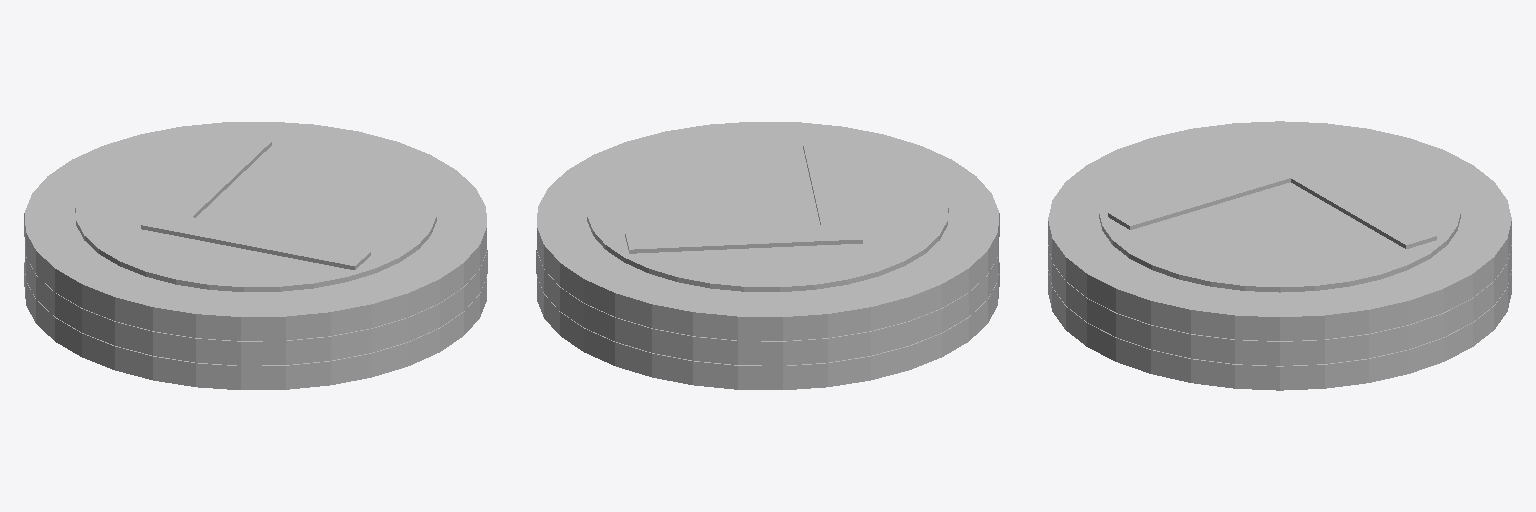
The model's file is sala.obj.
The picture shows the model from 3 angles: view 1: azimuth 30°, elevation 25°; view 2: azimuth 150°, elevation 25°; view 3: azimuth 270°, elevation 25°; orthographic projection.
Parts seen in each view (by area): view 1: Circle.001_Circle.003; view 2: Circle.001_Circle.003; view 3: Circle.001_Circle.003.
Part boxes in pixels (x1,y1,x2,y2): Circle.001_Circle.003: (24, 122, 487, 389); Circle.001_Circle.003: (536, 122, 999, 389); Circle.001_Circle.003: (1048, 121, 1511, 390).
Size of the model in its own units: 2 by 0.4689 by 2.